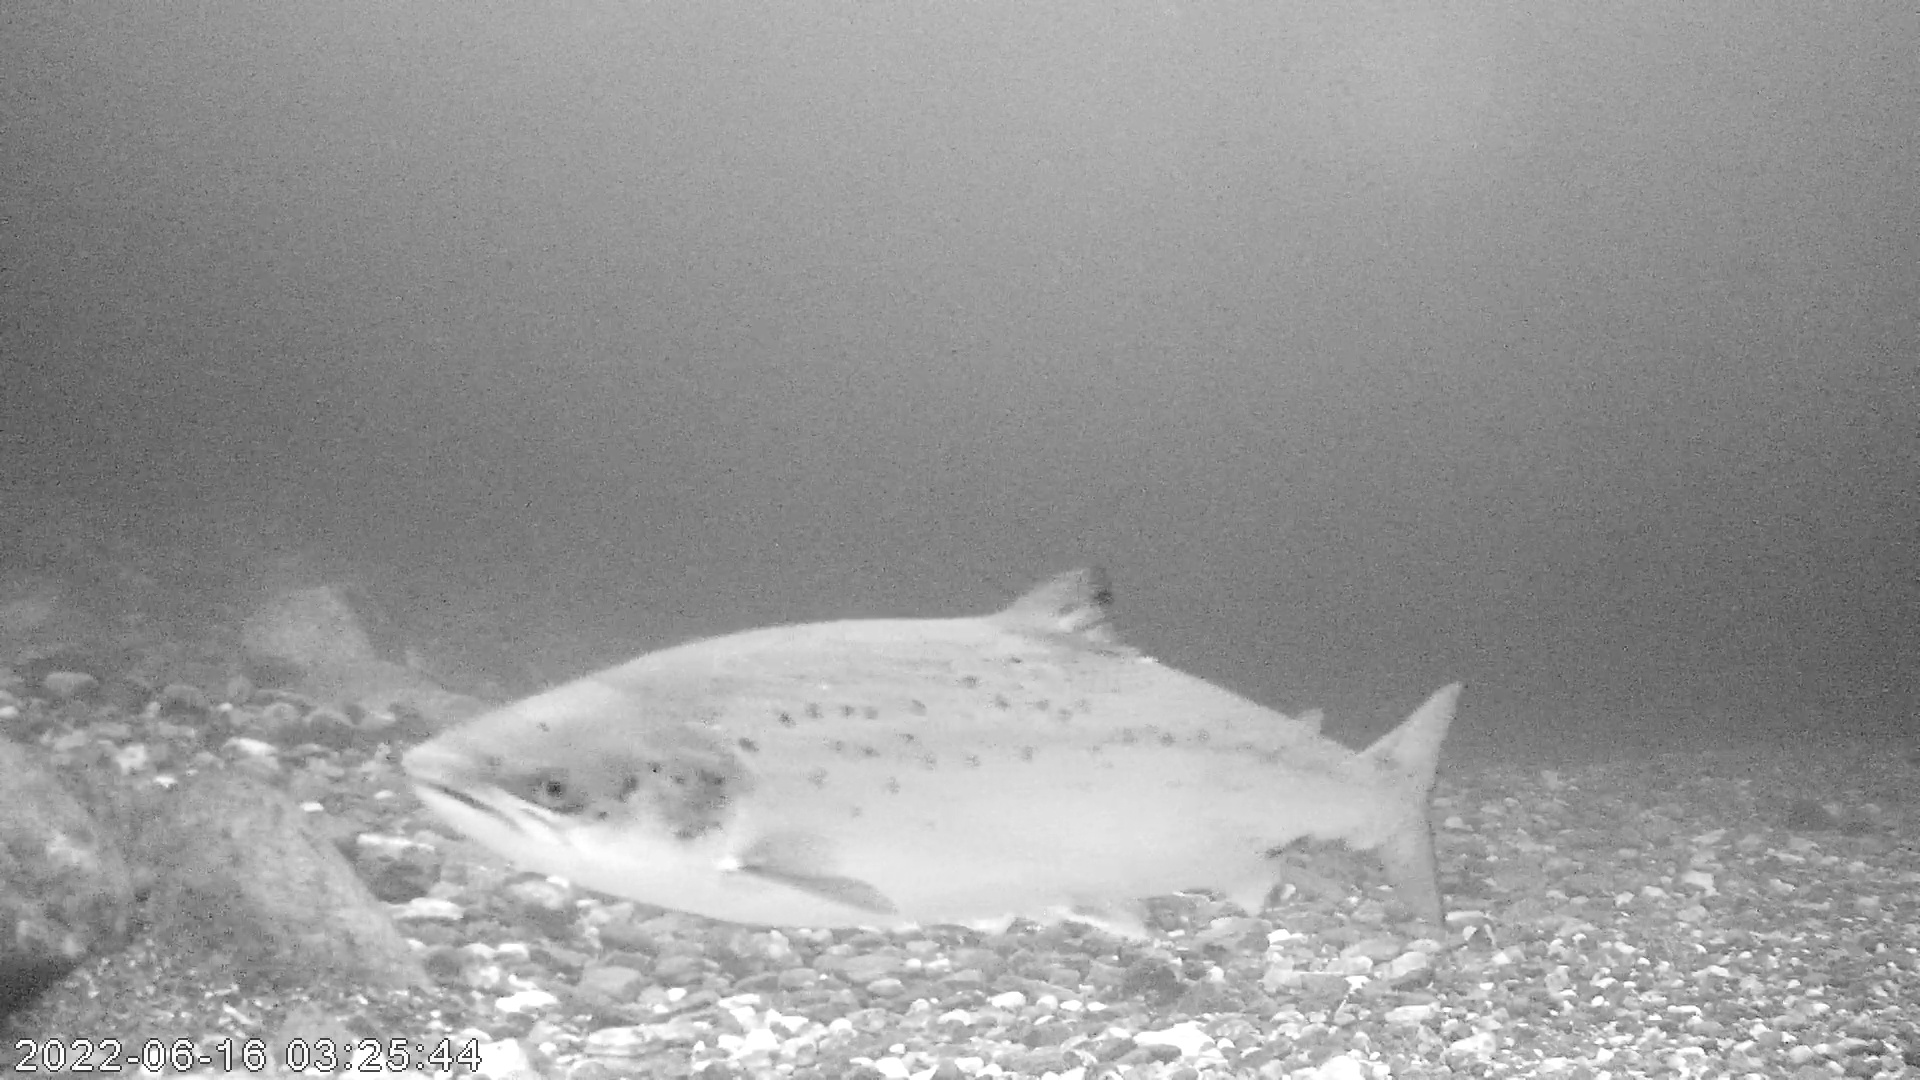salmon: (398, 562, 1466, 945)
